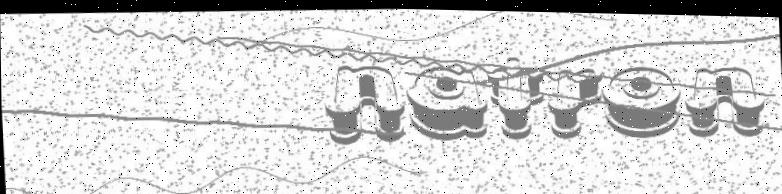a: (405, 62, 490, 140)
n: (322, 60, 407, 144), (684, 59, 767, 137)
o: (601, 60, 684, 137)
r: (546, 62, 603, 138)
t: (486, 52, 546, 139)
